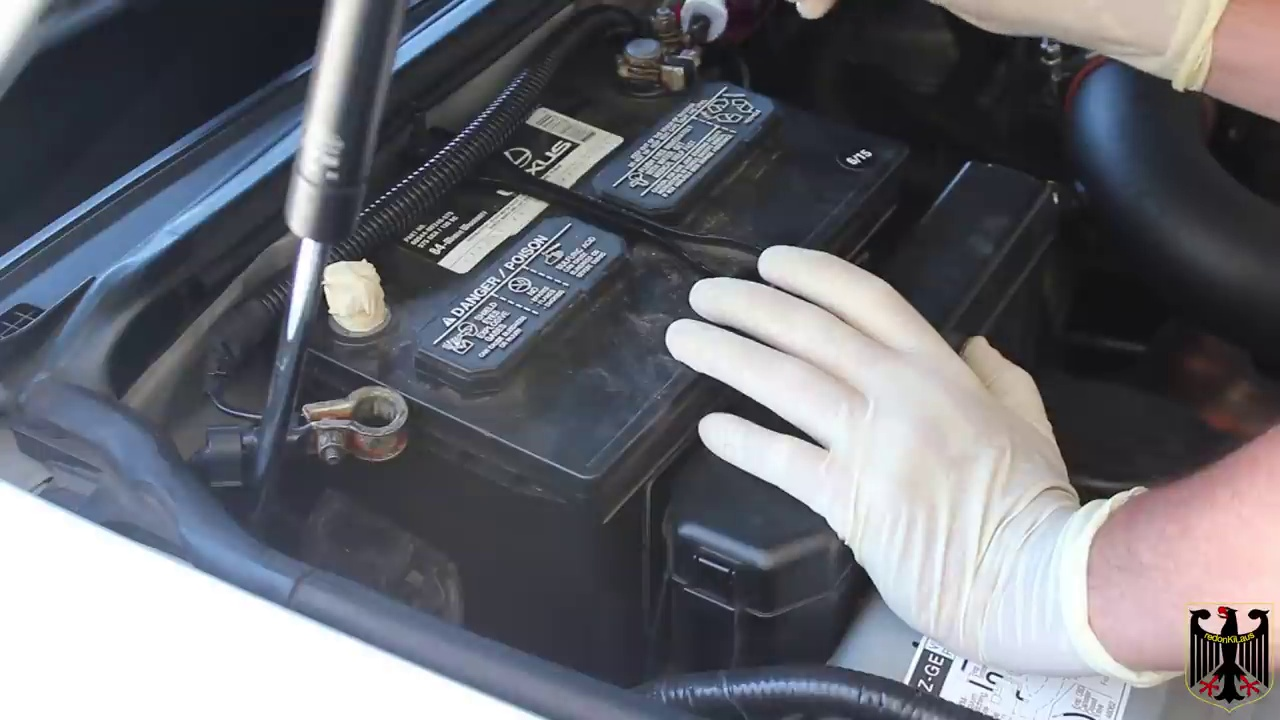battery: (237, 40, 911, 478)
